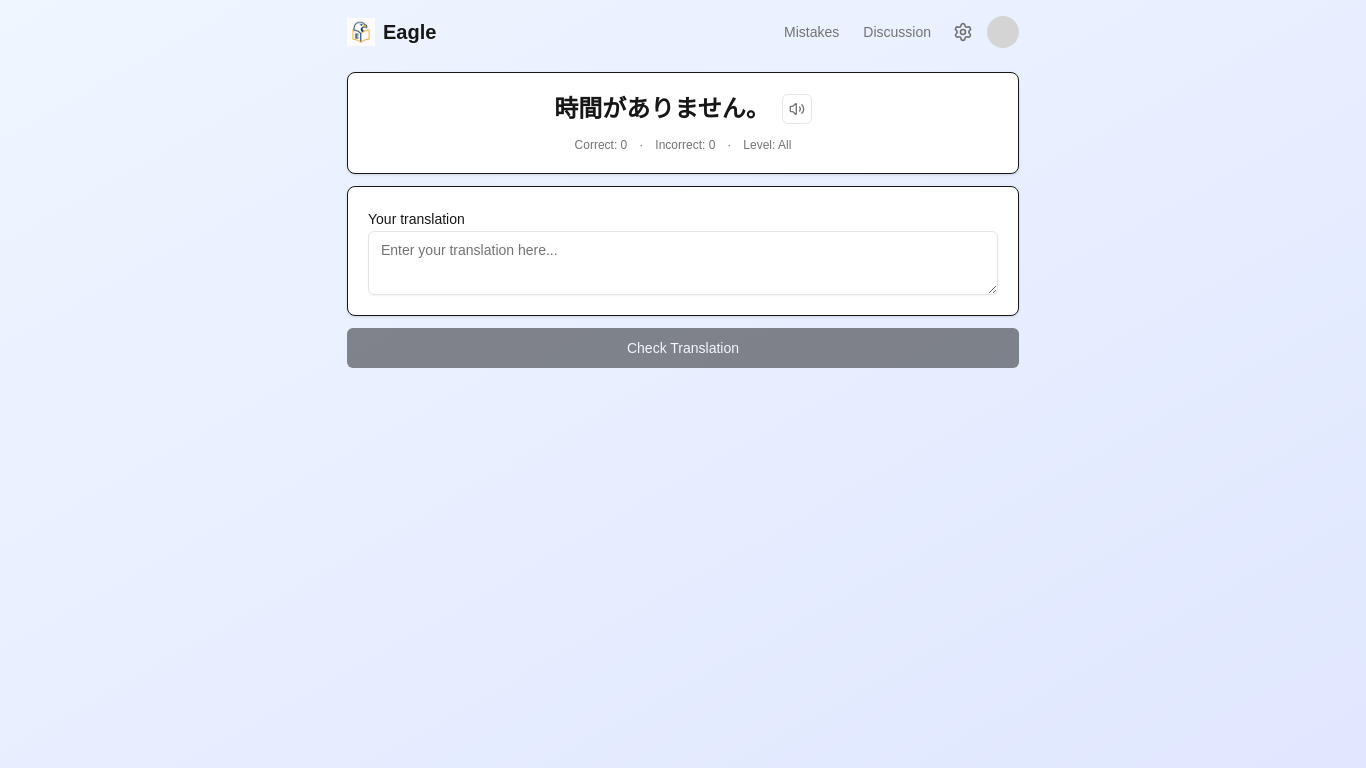
answering phase › ignores a stale sentence response that resolves after a newer request
The image size is (1366, 768).
expect the text "時間がありません。" is shown: met, box [554,93,770,125]
Click the button named "Settings": (963, 32) [947,16,979,48]
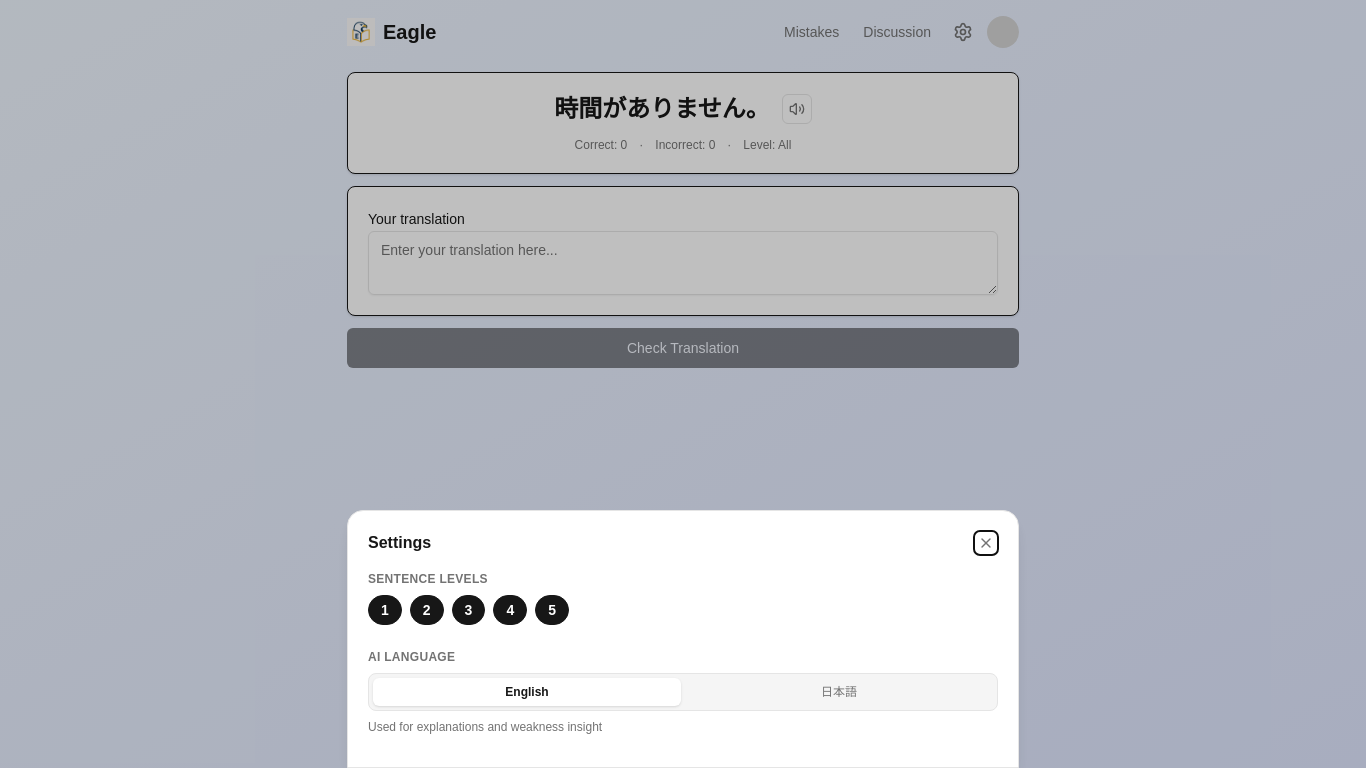
Click the checkbox named "Level 1": (385, 610) [368,595,402,625]
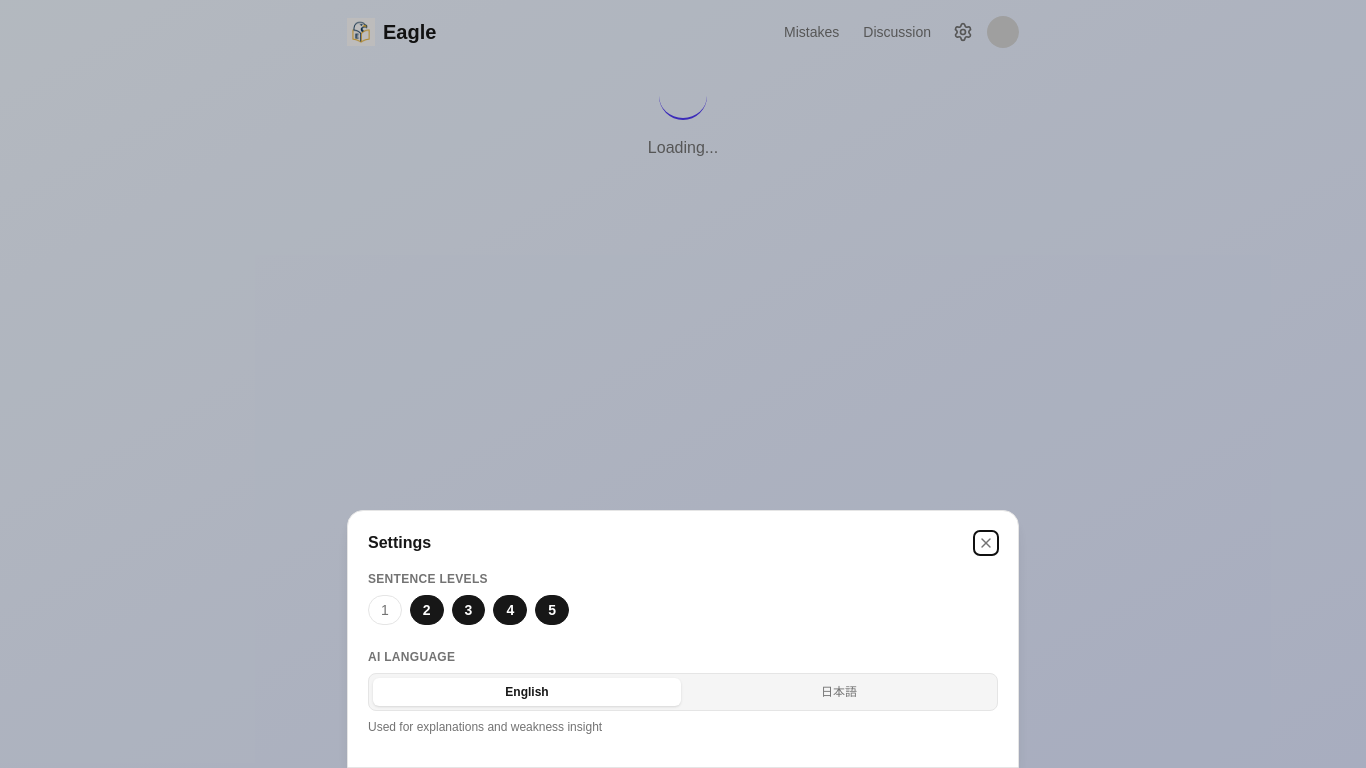
Click the checkbox named "Level 2": (427, 610) [410,595,444,625]
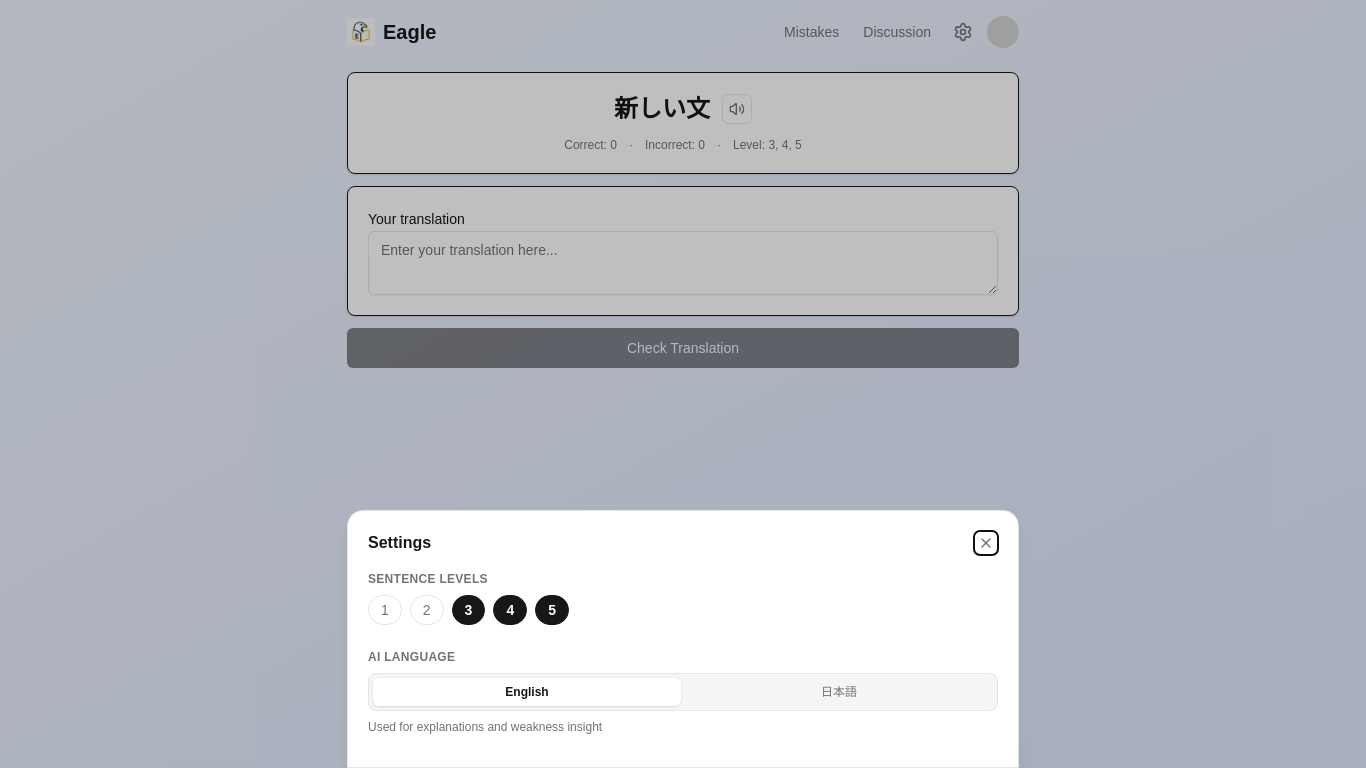
expect the text "新しい文" is shown: met, box [614,93,710,125]
